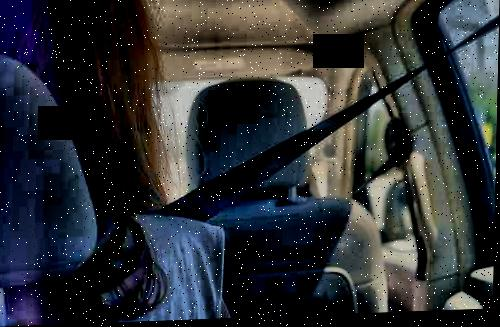seatbelt: (161, 26, 479, 198), (334, 149, 425, 204)
